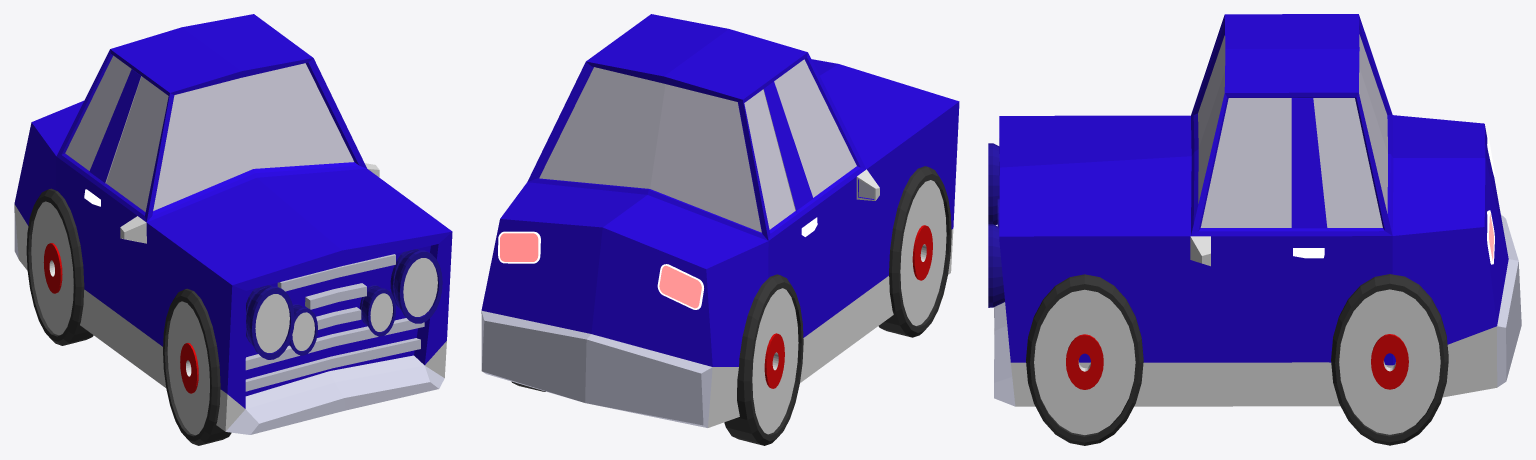
Rendered from CAR.glb.
The picture shows the model from 3 angles, left to right: view 1: azimuth 30°, elevation 25°; view 2: azimuth 150°, elevation 25°; view 3: azimuth 270°, elevation 25°; orthographic projection. The views are drawn at different scales.
Visible parts, largest first — view 1: car light_back.002; view 2: car light_back.002; view 3: car light_back.002.
Boxes of the visible parts, x1=… form: car light_back.002: x1=14, y1=14, x2=452, y2=445; car light_back.002: x1=481, y1=14, x2=959, y2=445; car light_back.002: x1=988, y1=14, x2=1521, y2=445.
Size of the model in its own units: 22.06 by 24.71 by 35.59.
